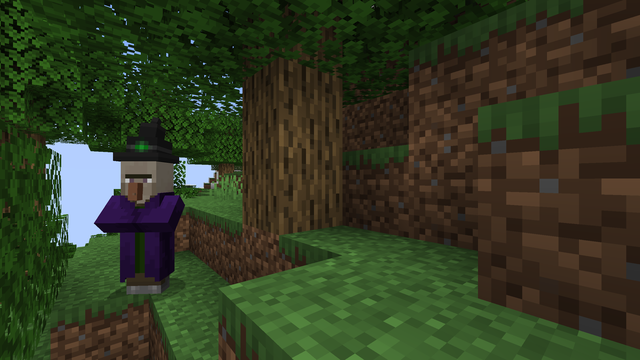sorcieres: (121, 154, 175, 303)
